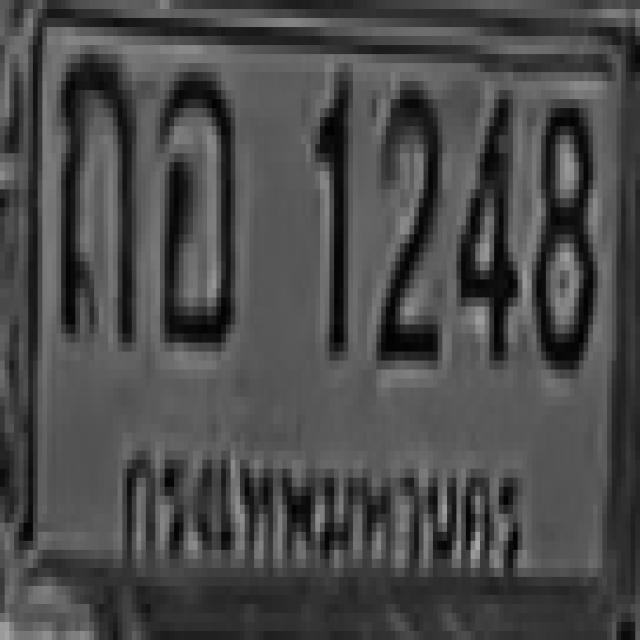1: (313, 68, 351, 347)
10GorGai: (57, 45, 141, 349)
2: (374, 77, 440, 356)
4: (452, 81, 520, 369)
52OrAng: (155, 63, 235, 351)
8: (532, 90, 599, 369)
Bangkok: (106, 426, 526, 588)
